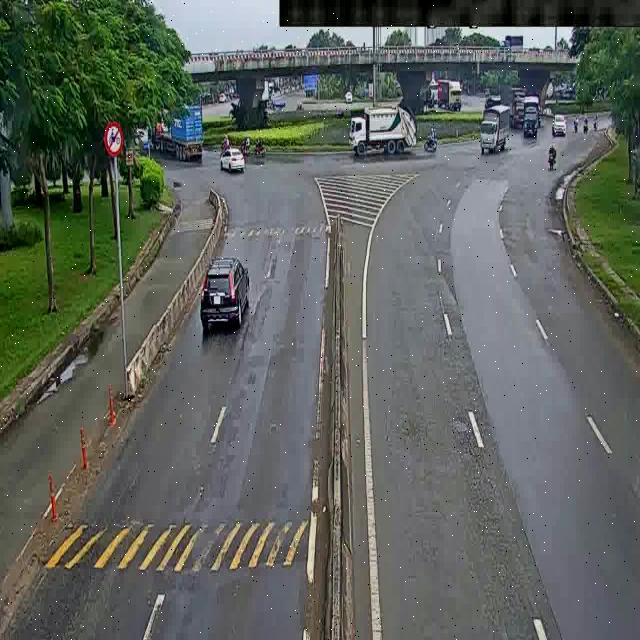car: (193, 252, 268, 352), (213, 150, 252, 176), (551, 107, 565, 138), (343, 92, 359, 103)
motorbike: (422, 126, 442, 156), (248, 135, 273, 159), (543, 142, 560, 176), (237, 133, 256, 156), (220, 132, 237, 155), (589, 112, 602, 137), (583, 111, 589, 142), (572, 111, 579, 136)
truck: (142, 102, 214, 175), (341, 105, 419, 159), (472, 108, 517, 162), (489, 85, 528, 122), (437, 75, 467, 112), (521, 93, 546, 124)
